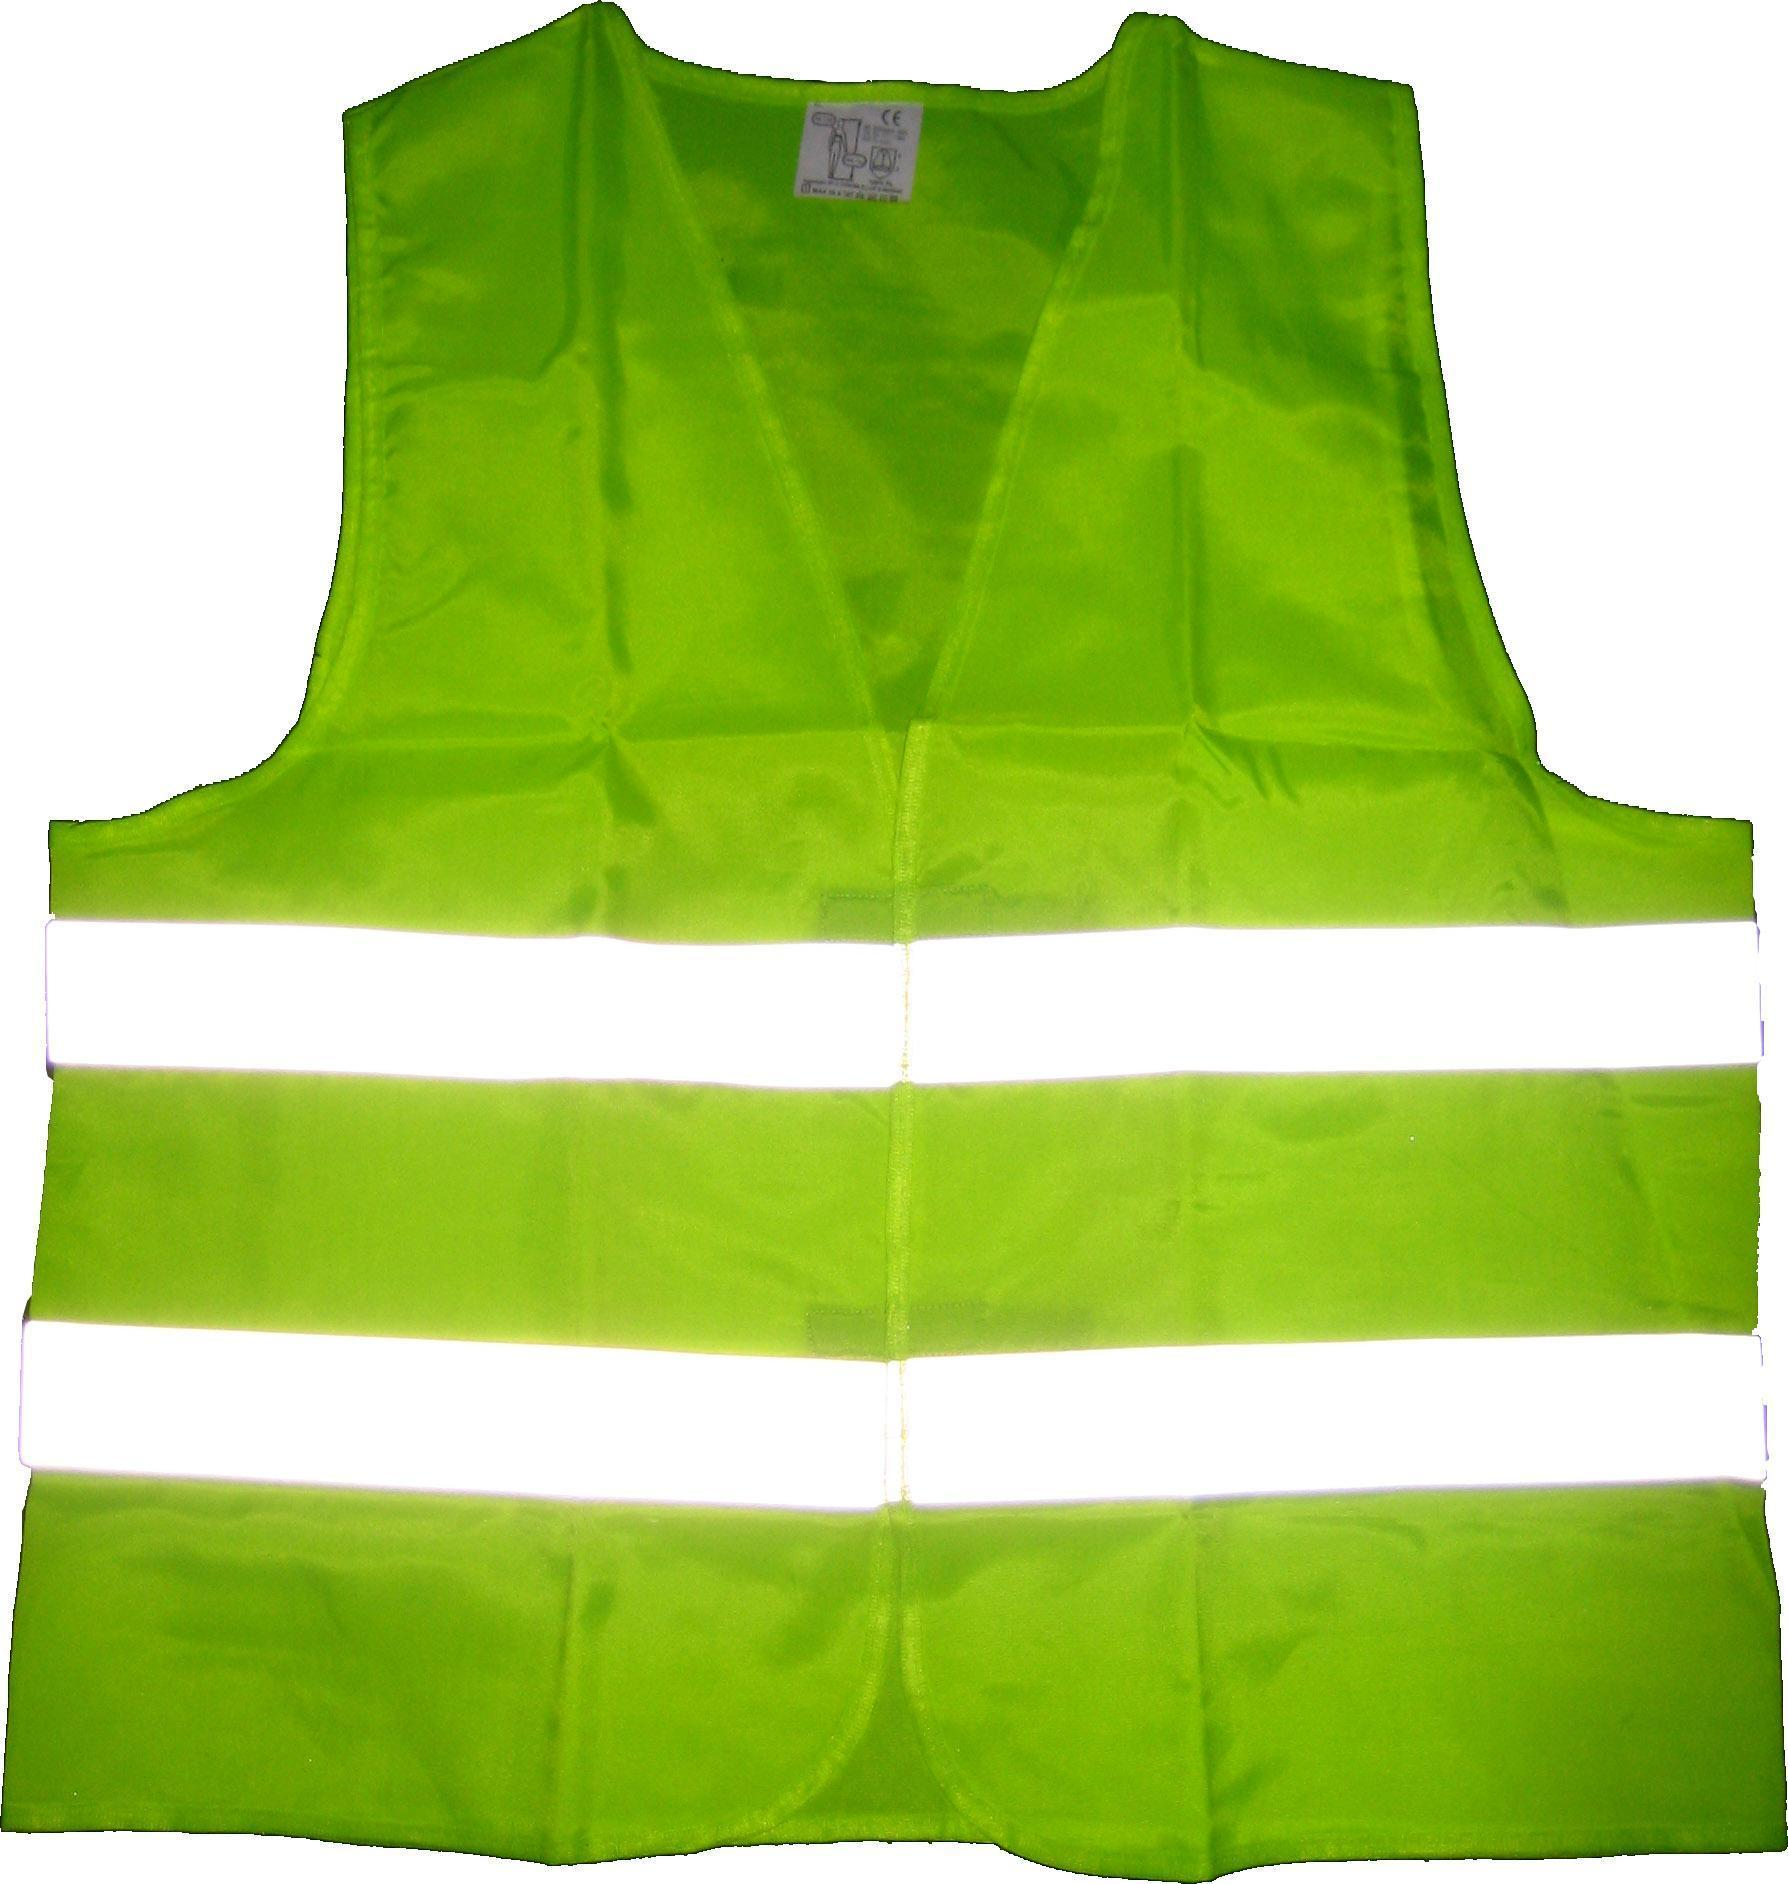vest: (2, 2, 1785, 1876)
